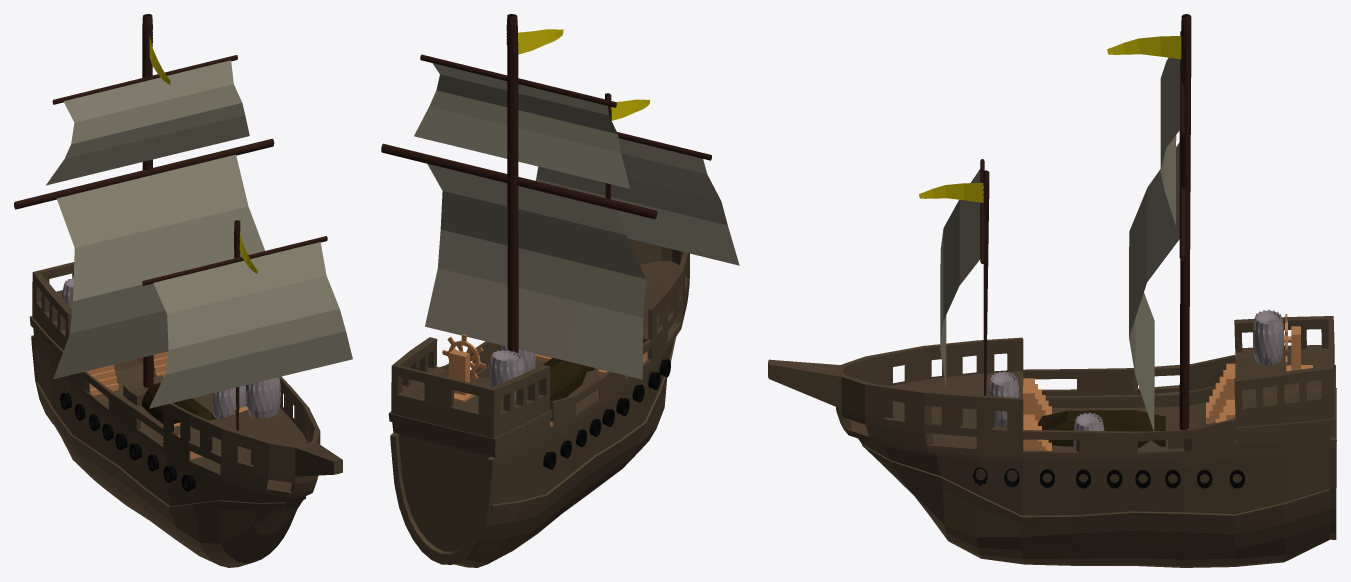
The model's file is Galleon.glb.
3 renders of one model, left to right at view 1: azimuth 30°, elevation 25°; view 2: azimuth 150°, elevation 25°; view 3: azimuth 270°, elevation 25°, orthographic. The views are drawn at different scales.
Parts seen in each view (by area): view 1: Galleon; view 2: Galleon; view 3: Galleon.
Boxes of the visible parts, x1=… form: Galleon: x1=14, y1=14, x2=352, y2=567; Galleon: x1=381, y1=14, x2=739, y2=567; Galleon: x1=768, y1=14, x2=1336, y2=567.
Bounding box in the file's own units: 1.38 × 2.52 × 2.37.
